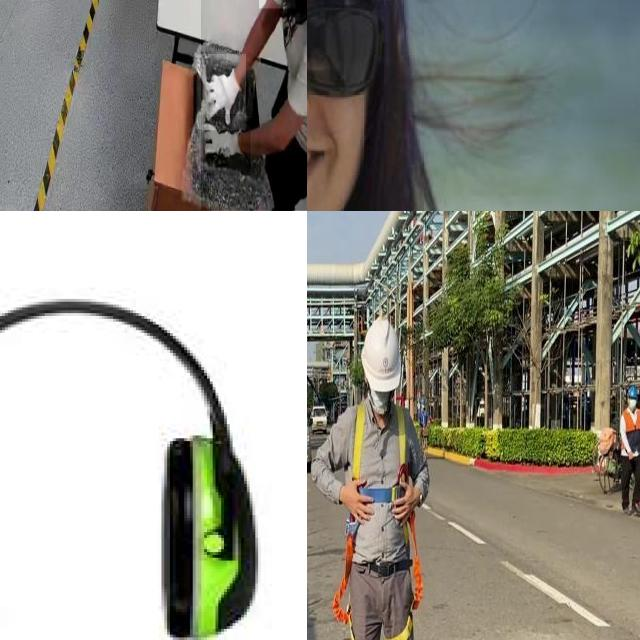Ear-protection: (155, 426, 258, 640)
Harness: (352, 403, 411, 504), (391, 509, 424, 640), (331, 535, 354, 640)
face_nomask: (307, 0, 364, 205)
glasses: (307, 0, 387, 114)
hand_glove: (196, 54, 246, 130), (203, 115, 251, 177)
person: (307, 0, 496, 211), (201, 0, 307, 211)
